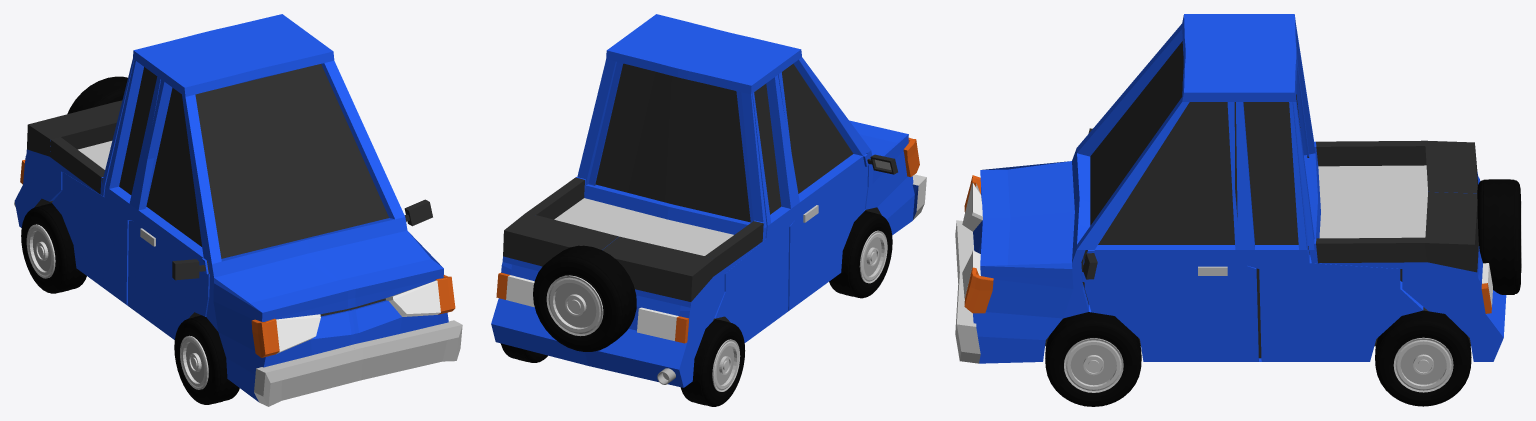
The model's file is CR-CARO-3.fbx.
3 views of the same model, side by side, from view 1: azimuth 30°, elevation 25°; view 2: azimuth 150°, elevation 25°; view 3: azimuth 270°, elevation 25° (orthographic). The views are drawn at different scales.
Visible parts, largest first — view 1: BODY, WHEEL.004, WHEEL.001, Back wheel; view 2: BODY, Back wheel, WHEEL.004, WHEEL.001, WHEEL.002; view 3: BODY, WHEEL.003, WHEEL.002, Back wheel.
Part boxes in pixels (x1=…): BODY: x1=14, y1=14, x2=462, y2=406; WHEEL.004: x1=21, y1=203, x2=86, y2=293; WHEEL.001: x1=174, y1=315, x2=239, y2=404; Back wheel: x1=67, y1=76, x2=127, y2=113; BODY: x1=491, y1=14, x2=926, y2=387; Back wheel: x1=533, y1=245, x2=636, y2=351; WHEEL.004: x1=680, y1=319, x2=745, y2=406; WHEEL.001: x1=829, y1=211, x2=892, y2=298; WHEEL.002: x1=500, y1=343, x2=547, y2=362; BODY: x1=955, y1=14, x2=1506, y2=363; WHEEL.003: x1=1045, y1=312, x2=1141, y2=406; WHEEL.002: x1=1375, y1=310, x2=1471, y2=406; Back wheel: x1=1477, y1=179, x2=1521, y2=294.
Bounding box in the file's own units: 131 × 134 × 230.
